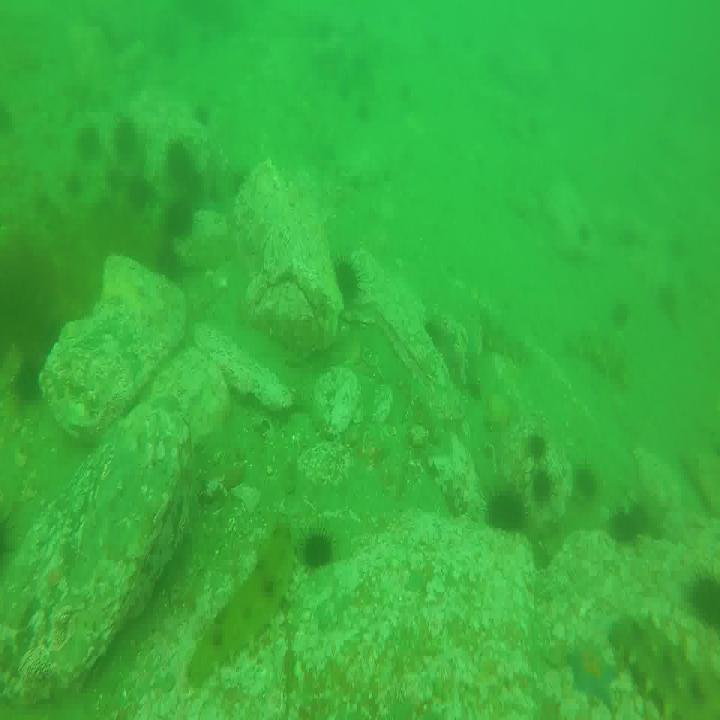echinus: (484, 491, 530, 539), (686, 570, 720, 633), (331, 257, 363, 305), (169, 141, 197, 194), (130, 168, 156, 223), (111, 118, 138, 165), (16, 361, 45, 404), (74, 122, 102, 166), (306, 529, 336, 569), (612, 502, 640, 541), (572, 464, 598, 503), (528, 469, 554, 507), (166, 195, 191, 233), (0, 512, 11, 579), (529, 435, 549, 467), (612, 299, 632, 329)
holothurian: (190, 514, 295, 692), (612, 618, 719, 720)
starfish: (570, 639, 620, 709)
